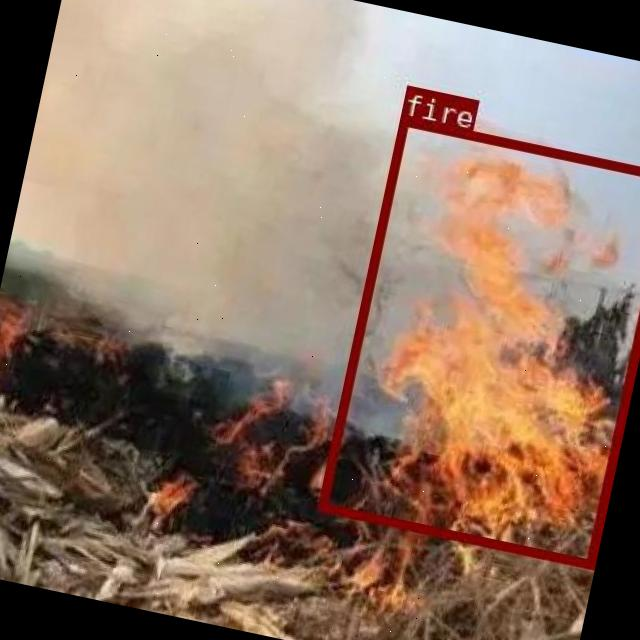fire: (317, 115, 640, 565)
